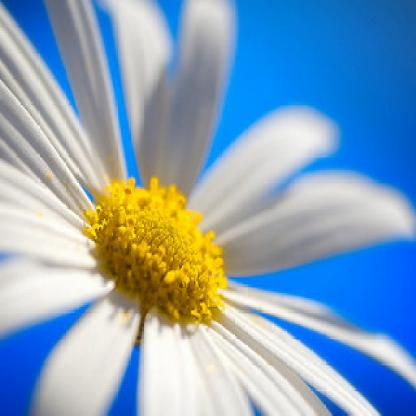ASTER: (5, 7, 392, 409)
